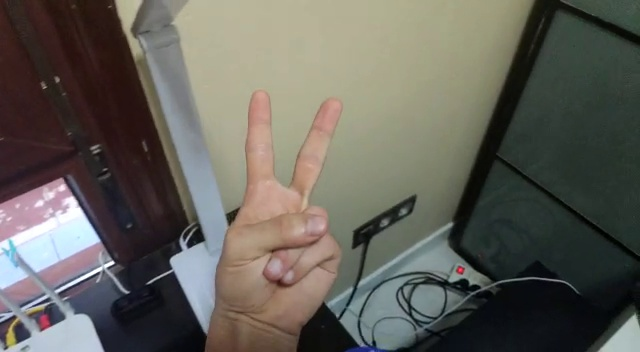Peace: (206, 82, 351, 347)
